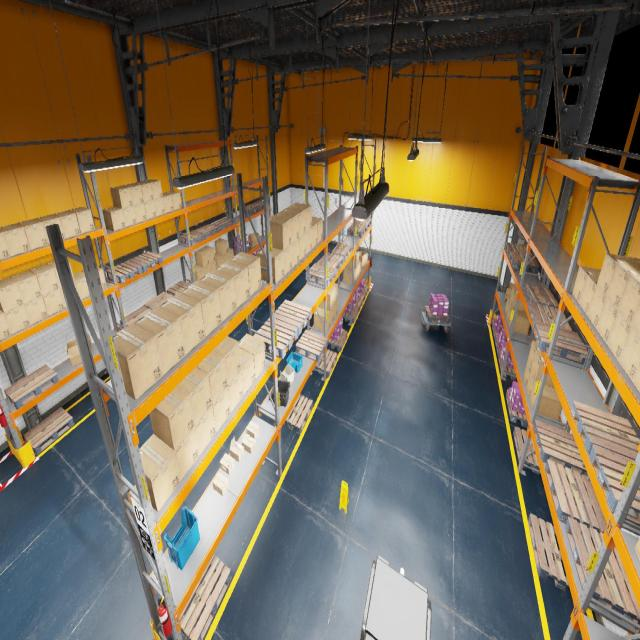box: (129, 434, 180, 512), (113, 323, 163, 400), (133, 306, 185, 376), (149, 386, 195, 450), (158, 293, 205, 355), (180, 280, 222, 337), (198, 270, 237, 321), (178, 368, 212, 426), (596, 253, 640, 297), (214, 260, 250, 308), (196, 351, 228, 404), (606, 263, 640, 311), (229, 252, 261, 296), (213, 336, 241, 385), (175, 427, 199, 481), (530, 381, 562, 421), (607, 312, 631, 362), (619, 327, 640, 382), (618, 274, 640, 326), (239, 334, 265, 378), (572, 266, 601, 304), (10, 270, 42, 304), (195, 405, 216, 455), (257, 246, 284, 284), (16, 219, 48, 250), (0, 223, 30, 256), (597, 298, 618, 344), (29, 264, 59, 296), (531, 350, 555, 388), (35, 215, 65, 244), (212, 387, 231, 432), (67, 334, 93, 366), (274, 211, 299, 244), (0, 278, 24, 312), (52, 210, 80, 239), (46, 261, 75, 288), (588, 286, 606, 329), (4, 305, 30, 334), (282, 206, 305, 238), (270, 215, 291, 250), (526, 370, 550, 400), (580, 275, 598, 315), (240, 348, 255, 395), (68, 207, 95, 233), (24, 296, 48, 325), (290, 202, 311, 232), (228, 370, 243, 412), (43, 288, 64, 316), (102, 207, 126, 231), (508, 309, 530, 335), (82, 266, 106, 288), (110, 186, 133, 208), (59, 282, 78, 308), (73, 271, 90, 300), (122, 183, 144, 205), (133, 181, 153, 202), (212, 472, 229, 496), (314, 307, 330, 332), (143, 179, 163, 199), (318, 288, 334, 311), (230, 436, 244, 462), (507, 303, 525, 323), (510, 287, 525, 311), (219, 452, 235, 474), (164, 191, 182, 210), (0, 310, 11, 340), (528, 341, 540, 368), (631, 302, 640, 336), (122, 206, 136, 227), (0, 230, 10, 259), (194, 249, 210, 267), (312, 216, 322, 243), (242, 434, 256, 453), (284, 244, 292, 276), (201, 245, 215, 263), (343, 266, 356, 285), (504, 282, 516, 302), (162, 194, 174, 214), (144, 200, 156, 220), (134, 203, 146, 223), (523, 360, 531, 388), (190, 265, 204, 281), (246, 421, 259, 438), (346, 251, 359, 268), (215, 238, 228, 255), (292, 238, 299, 268), (154, 198, 165, 216), (633, 364, 640, 392), (299, 233, 306, 261), (248, 232, 260, 246), (359, 250, 368, 268), (348, 265, 358, 281), (306, 228, 312, 254), (331, 283, 338, 303), (634, 537, 640, 560), (312, 222, 317, 248), (216, 252, 228, 262), (215, 254, 223, 267), (505, 297, 510, 316), (330, 306, 334, 326), (203, 264, 210, 275), (210, 260, 216, 272), (334, 299, 337, 319), (228, 248, 233, 259), (358, 260, 361, 276)
forklift: (361, 555, 432, 639)
pallets: (564, 517, 640, 629), (544, 459, 606, 534), (179, 554, 231, 639), (588, 444, 640, 526), (570, 400, 640, 460), (528, 514, 569, 592), (533, 420, 587, 475), (4, 364, 59, 409), (23, 407, 74, 455), (533, 320, 587, 364), (253, 317, 298, 359), (513, 426, 540, 475), (528, 301, 572, 331), (274, 300, 311, 335), (283, 394, 313, 434), (295, 330, 328, 362), (106, 261, 143, 284), (525, 284, 559, 309), (506, 390, 528, 428), (306, 262, 336, 287), (129, 251, 163, 272), (313, 348, 337, 377), (120, 306, 151, 328), (509, 251, 539, 273), (317, 252, 344, 272), (498, 352, 516, 381), (144, 292, 173, 310), (424, 306, 450, 324), (328, 329, 348, 351), (505, 242, 532, 258), (180, 230, 206, 245), (332, 243, 352, 261), (194, 224, 219, 238), (167, 281, 190, 295), (347, 222, 367, 238), (342, 305, 359, 323), (212, 218, 233, 230), (356, 219, 371, 230), (233, 245, 251, 254), (244, 204, 260, 214), (492, 321, 500, 340), (250, 200, 264, 210), (360, 285, 369, 300), (356, 294, 364, 310), (495, 336, 500, 356)
